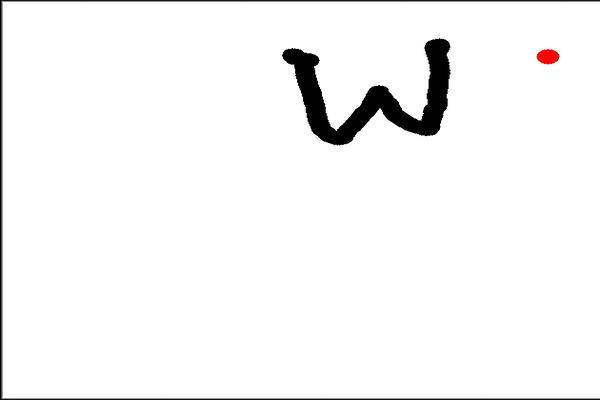w: (266, 23, 474, 154)
